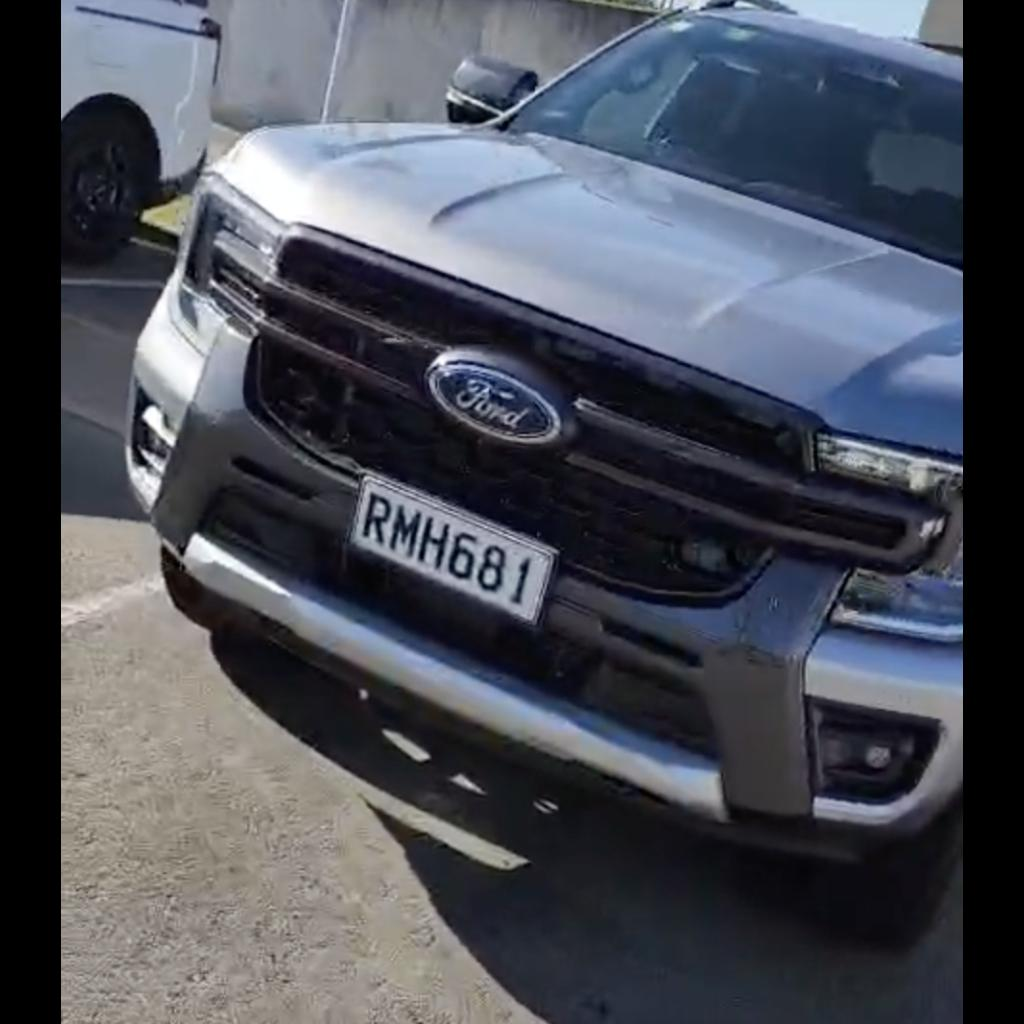Number-Plates: (325, 453, 579, 650)
